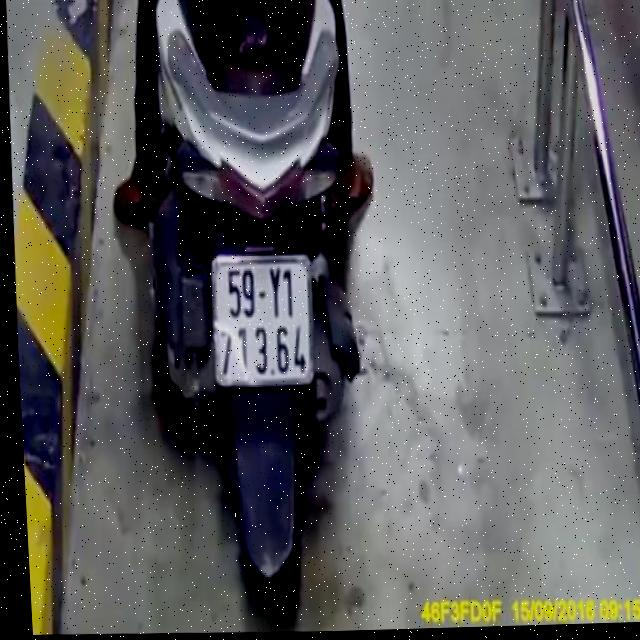motorcycle: (112, 0, 398, 605)
plate: (203, 246, 318, 391)
